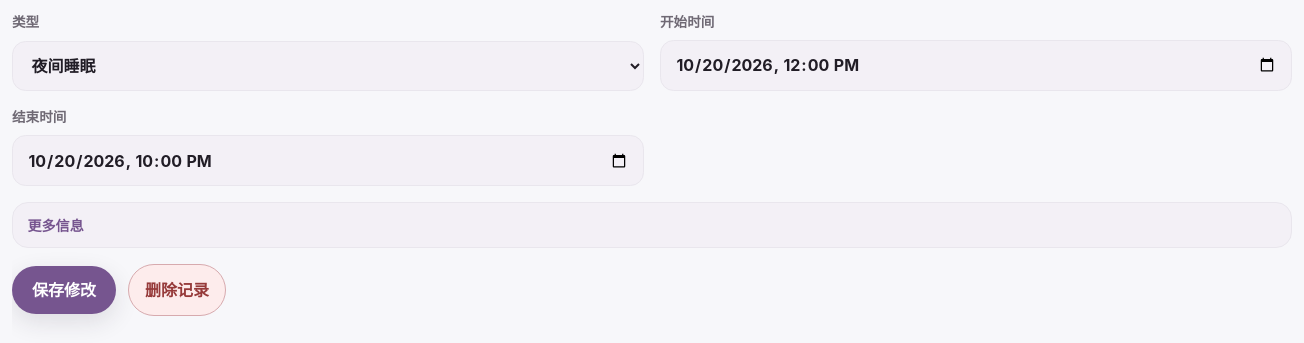
Test: record form action safeguards › disables sleep deletion while its request is pending
The width and height of the screenshot is (1304, 343).
Click the button "删除记录" at point(177, 290), box 128,264 -> 226,316
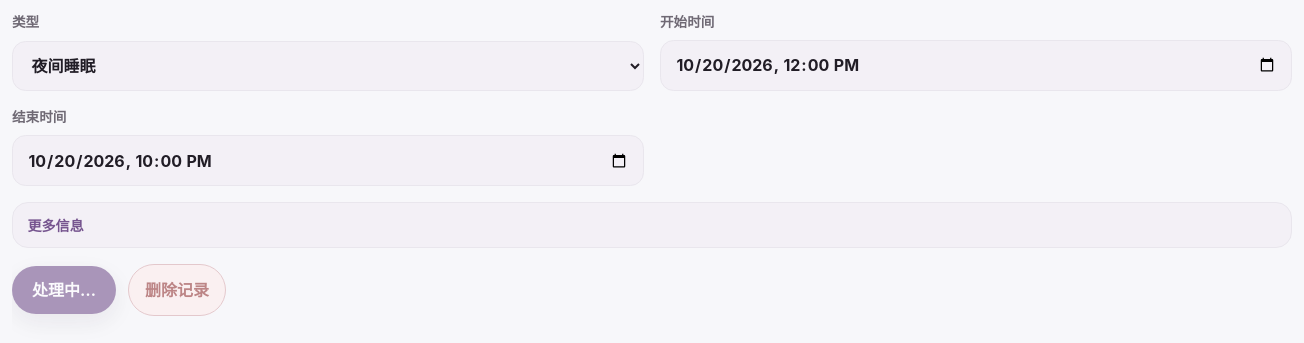
Now the button "删除记录" is disabled, box 128,264 -> 226,316
